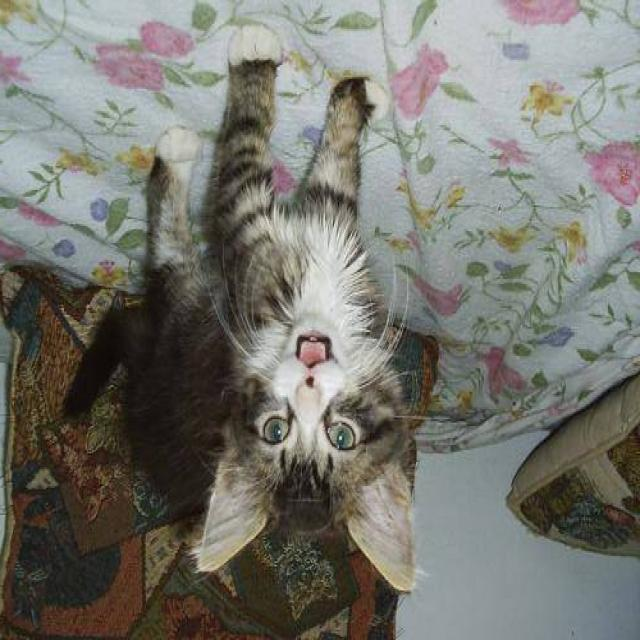Kucing: (72, 9, 462, 633)
